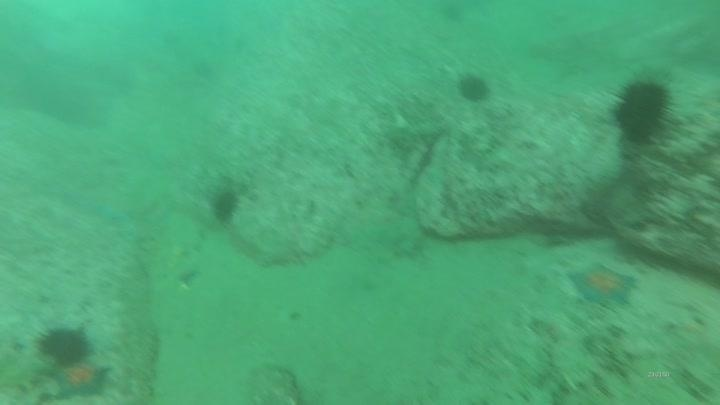echinus: (608, 73, 677, 146), (36, 323, 93, 366), (208, 186, 242, 225), (455, 71, 492, 105)
starfish: (565, 260, 640, 309), (50, 358, 114, 401)
